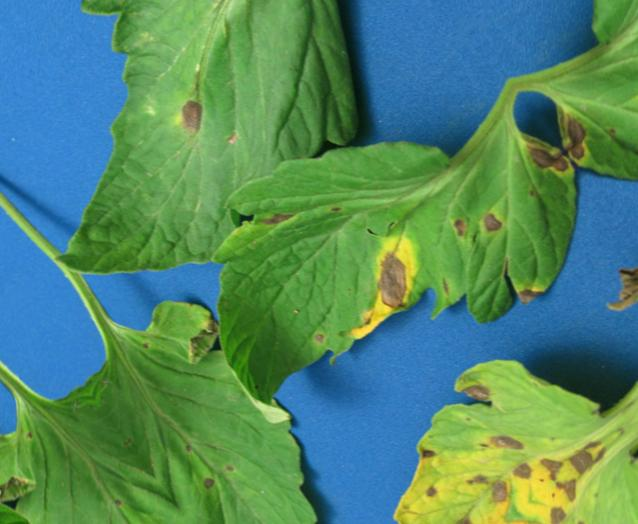Tomato Early blight leaf: (150, 25, 627, 477), (0, 0, 483, 333), (51, 246, 432, 524), (328, 247, 638, 524)
